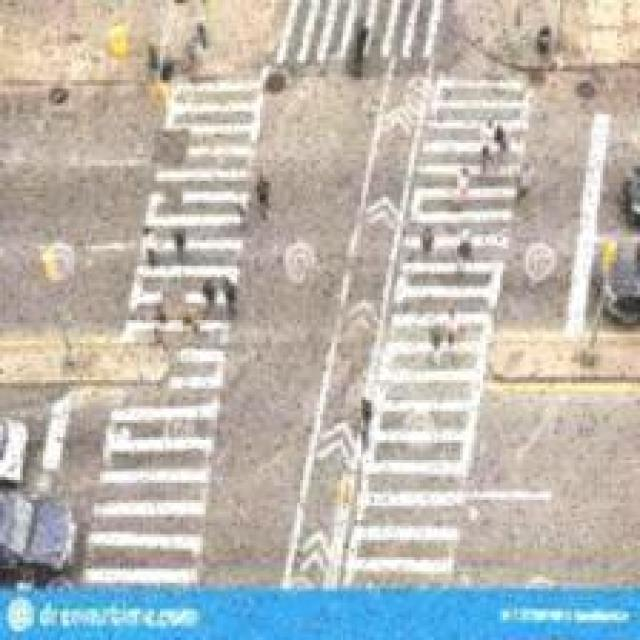crosswalk: (336, 79, 529, 587), (76, 83, 264, 568)
